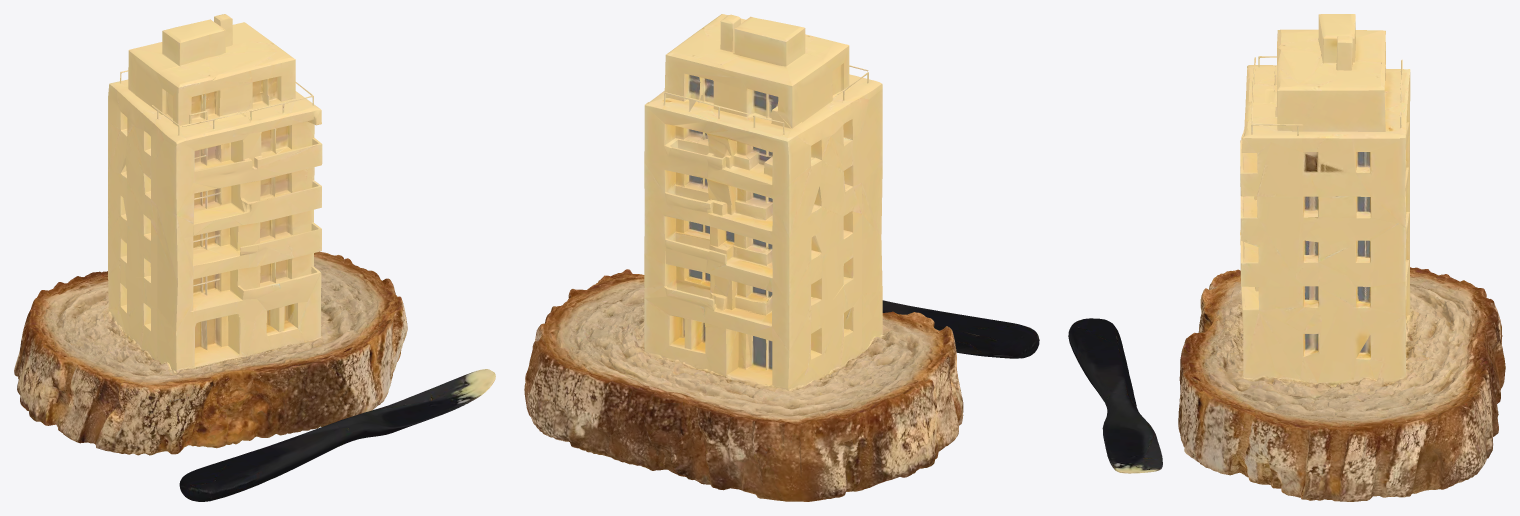
The model's file is butter-gebaeude.glb.
3 renders of one model, left to right at view 1: azimuth 30°, elevation 25°; view 2: azimuth 150°, elevation 25°; view 3: azimuth 270°, elevation 25°, orthographic. The views are drawn at different scales.
Parts seen in each view (by area): view 1: Mesh_0; view 2: Mesh_0; view 3: Mesh_0.
Part boxes in pixels (<box>): Mesh_0: <box>14,14,495,501</box>; Mesh_0: <box>524,14,1039,501</box>; Mesh_0: <box>1068,14,1505,501</box>.
Bounding box in the file's own units: 1.9 × 1.82 × 1.89.
Materials: 1 (1 with a texture image).
